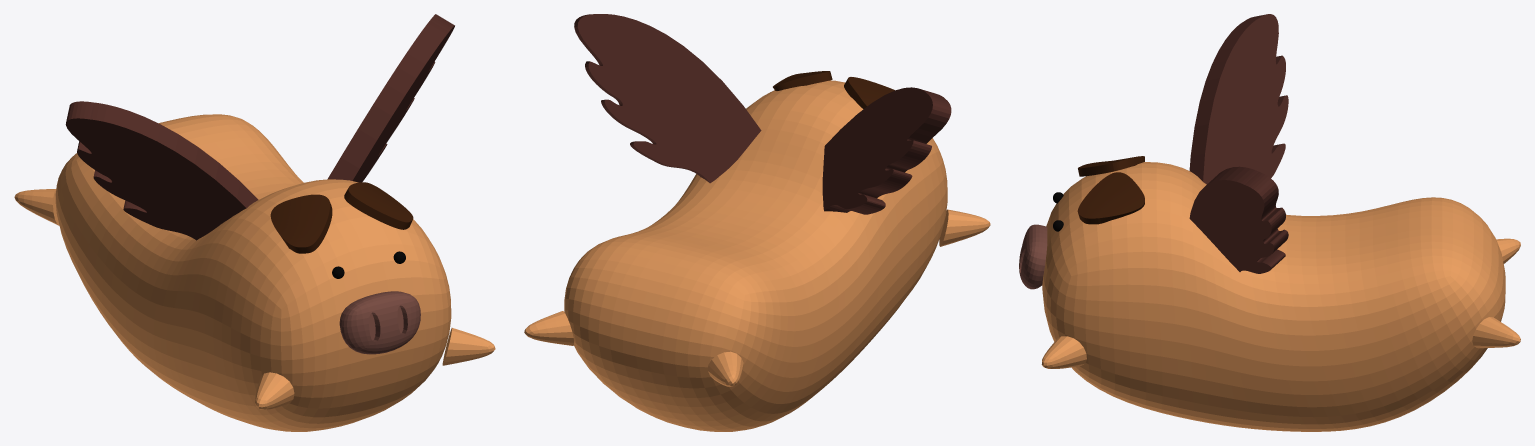
File: fly_pig.glb
The picture shows the model from 3 angles, left to right: view 1: azimuth 30°, elevation 25°; view 2: azimuth 150°, elevation 25°; view 3: azimuth 270°, elevation 25°; orthographic projection. The views are drawn at different scales.
Bounding box in the file's own units: 3.51 × 2.99 × 4.2.
